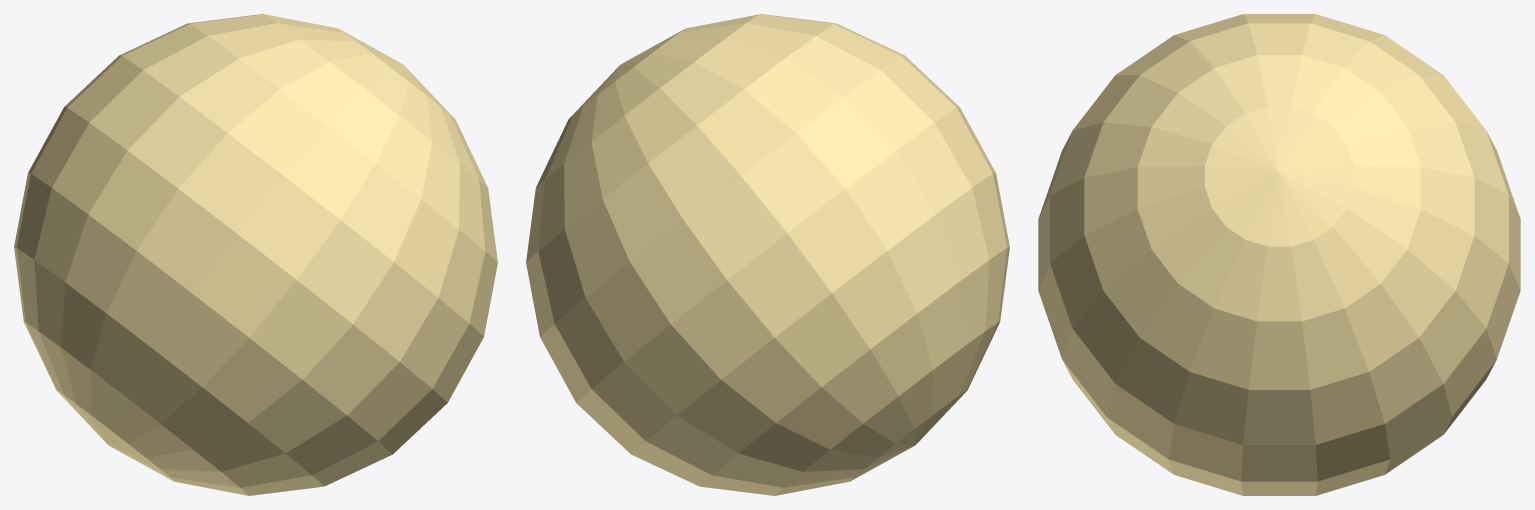
Rendered from dc_metro_roof_g3l_light_layer.obj.
3 views of the same model, side by side, from view 1: azimuth 30°, elevation 25°; view 2: azimuth 150°, elevation 25°; view 3: azimuth 270°, elevation 25° (orthographic).
Parts seen in each view (by area): view 1: part3l; view 2: part3l; view 3: part3l.
Part boxes in pixels (x1,y1,x2,y2): part3l: (14, 14, 497, 495); part3l: (526, 14, 1009, 495); part3l: (1038, 14, 1520, 495).
Bounding box in the file's own units: 0.4938 × 0.4938 × 0.5.
1 material, 1 textured.
